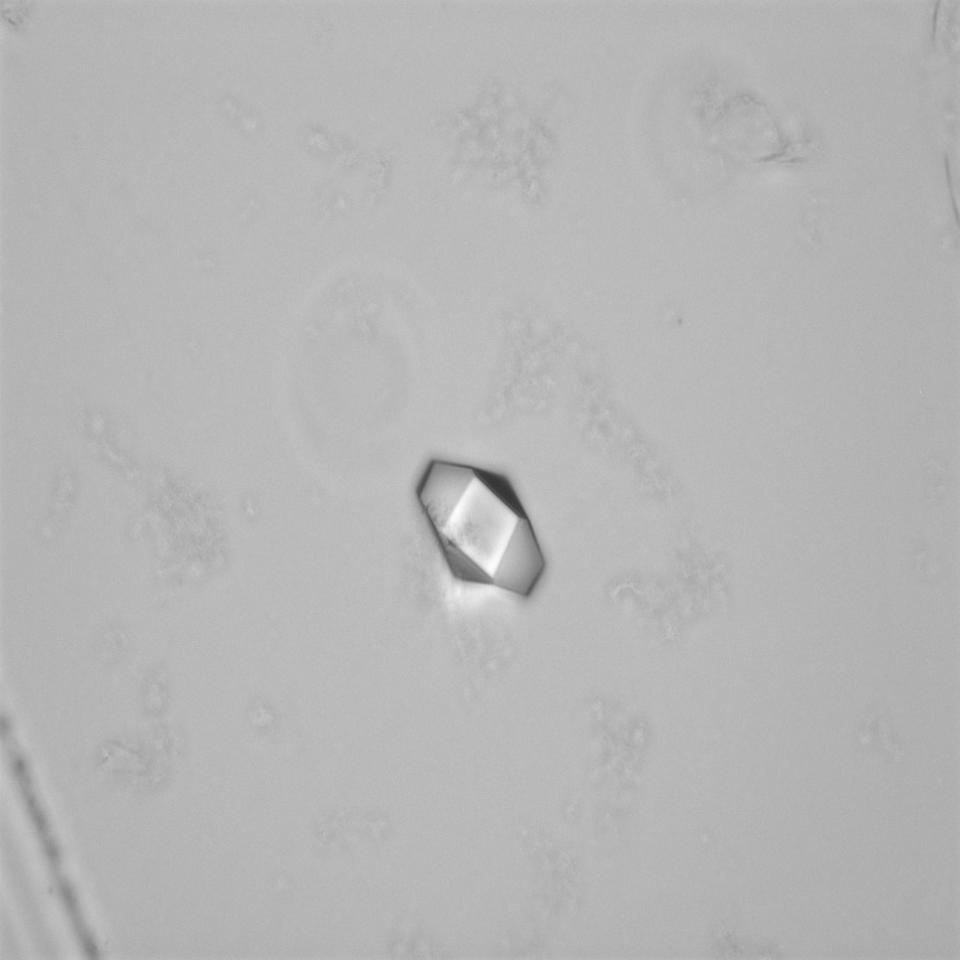crystal: (414, 452, 546, 595)
